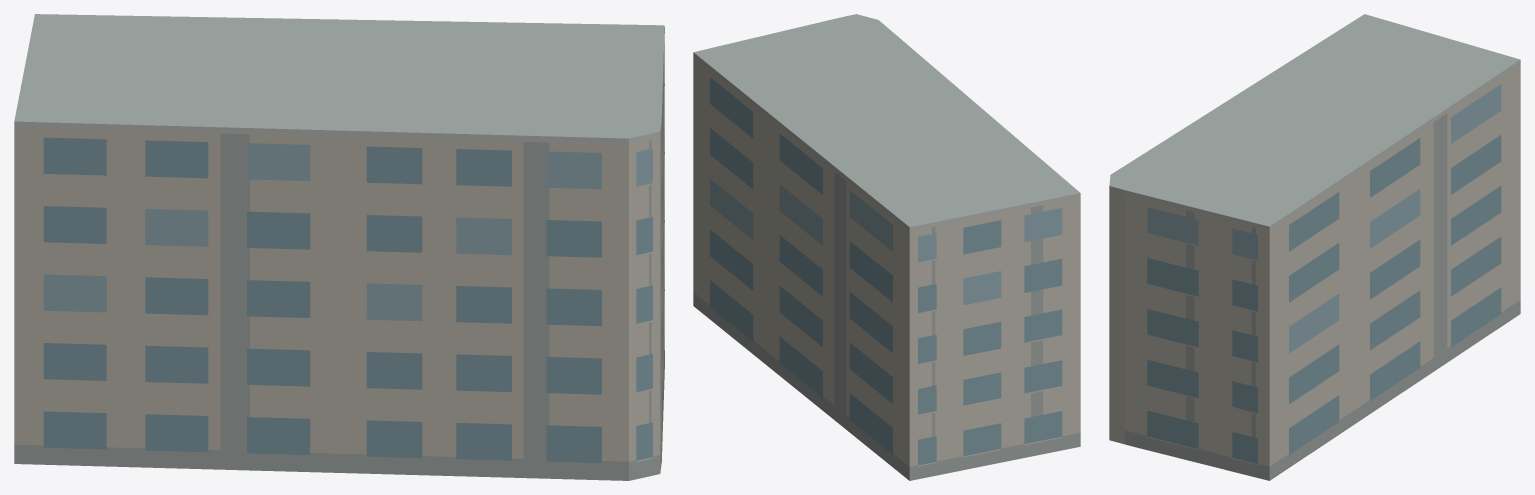
Rendered from survey-upis-32650856.glb.
3 views of the same model, side by side, from view 1: azimuth 30°, elevation 25°; view 2: azimuth 150°, elevation 25°; view 3: azimuth 270°, elevation 25° (orthographic). The views are drawn at different scales.
Parts seen in each view (by area): view 1: survey-upis-32650856.tmp; view 2: survey-upis-32650856.tmp; view 3: survey-upis-32650856.tmp.
Boxes of the visible parts, x1,y1,x2,y2 form: survey-upis-32650856.tmp: [14, 14, 664, 480]; survey-upis-32650856.tmp: [693, 14, 1080, 480]; survey-upis-32650856.tmp: [1109, 14, 1520, 480].
Bounding box in the file's own units: 23.76 × 13.25 × 19.43.
